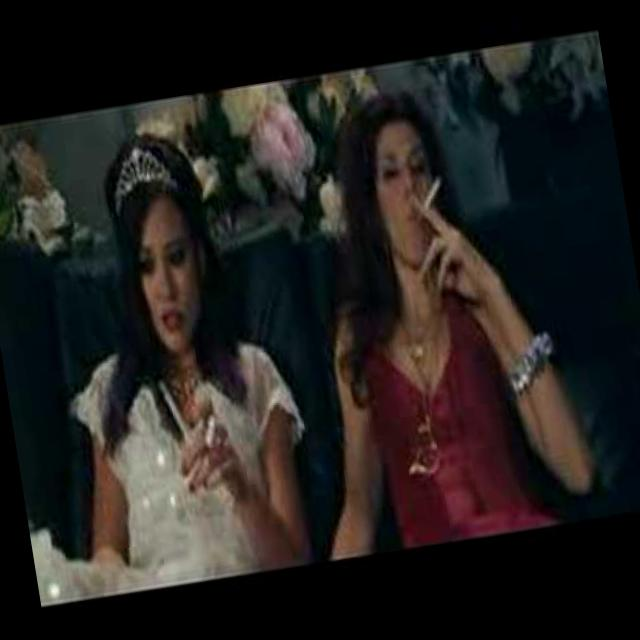cigarette: (142, 359, 205, 467), (412, 170, 455, 216)
